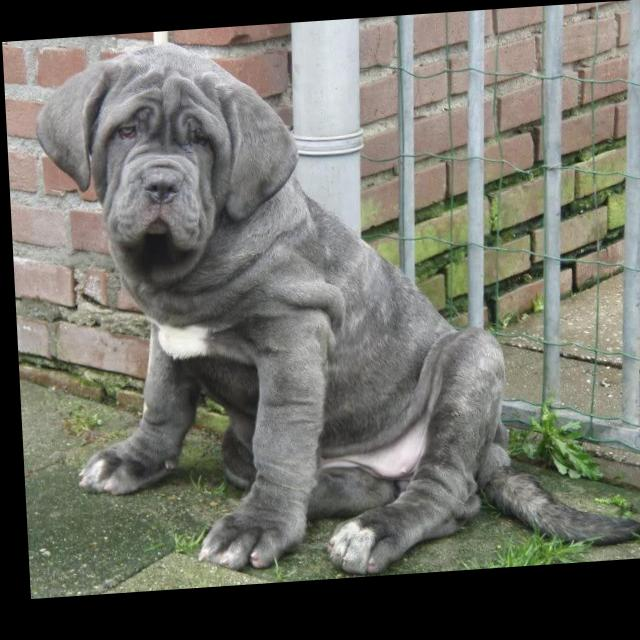mastino_napoletano: (31, 21, 640, 598)
